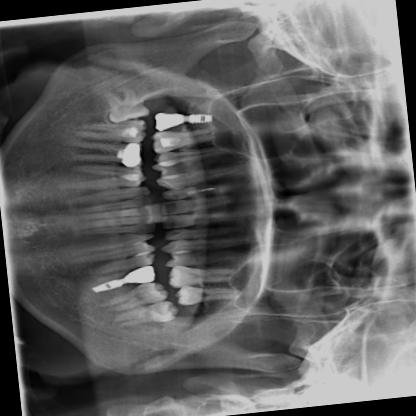Bicon: (89, 274, 128, 294), (184, 110, 216, 126)
